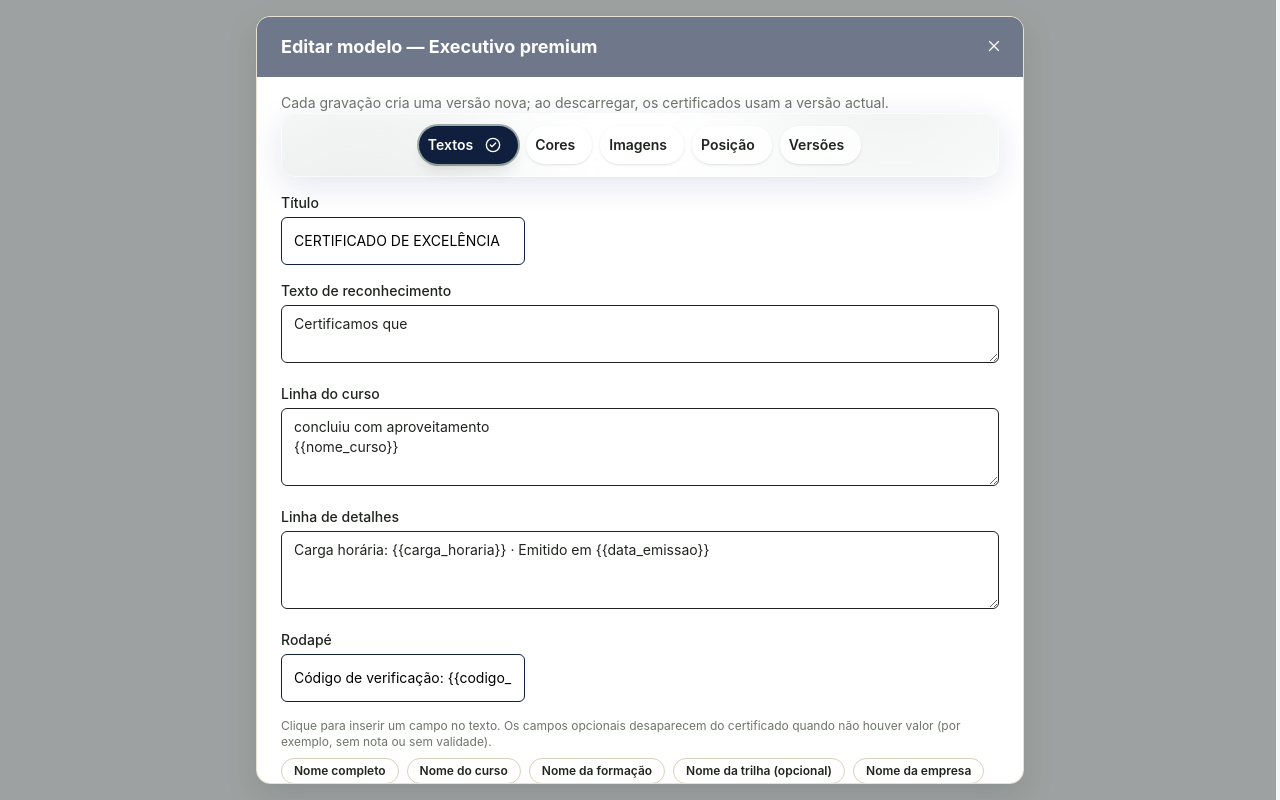
Scenario: TemplateEditorModal › cor em formato inválido bloqueia a gravação
Click the tab "Cores". click: (559, 145)
box: top-left (526, 126), bottom-right (592, 164)
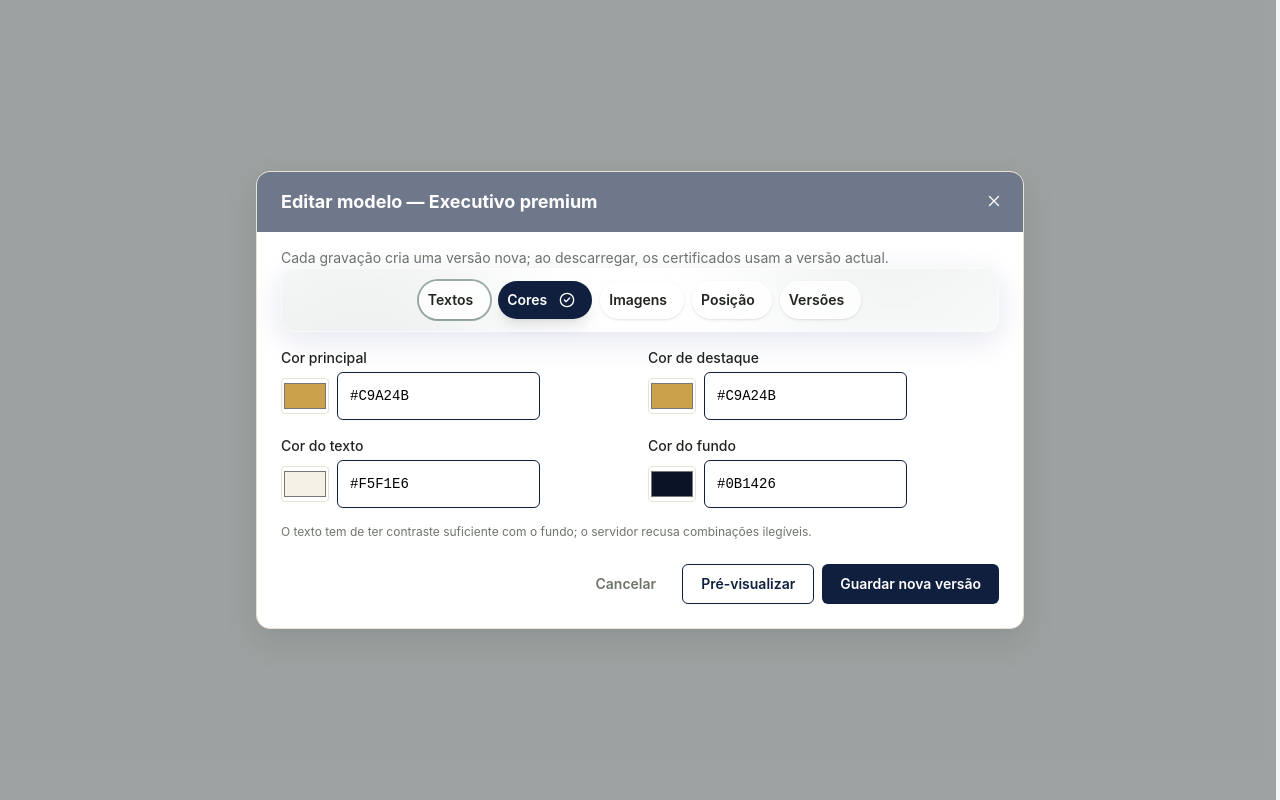
Replace the text in the field named "Cor principal (hexadecimal)" with "red". click: (438, 396)
box: top-left (337, 372), bottom-right (540, 420)
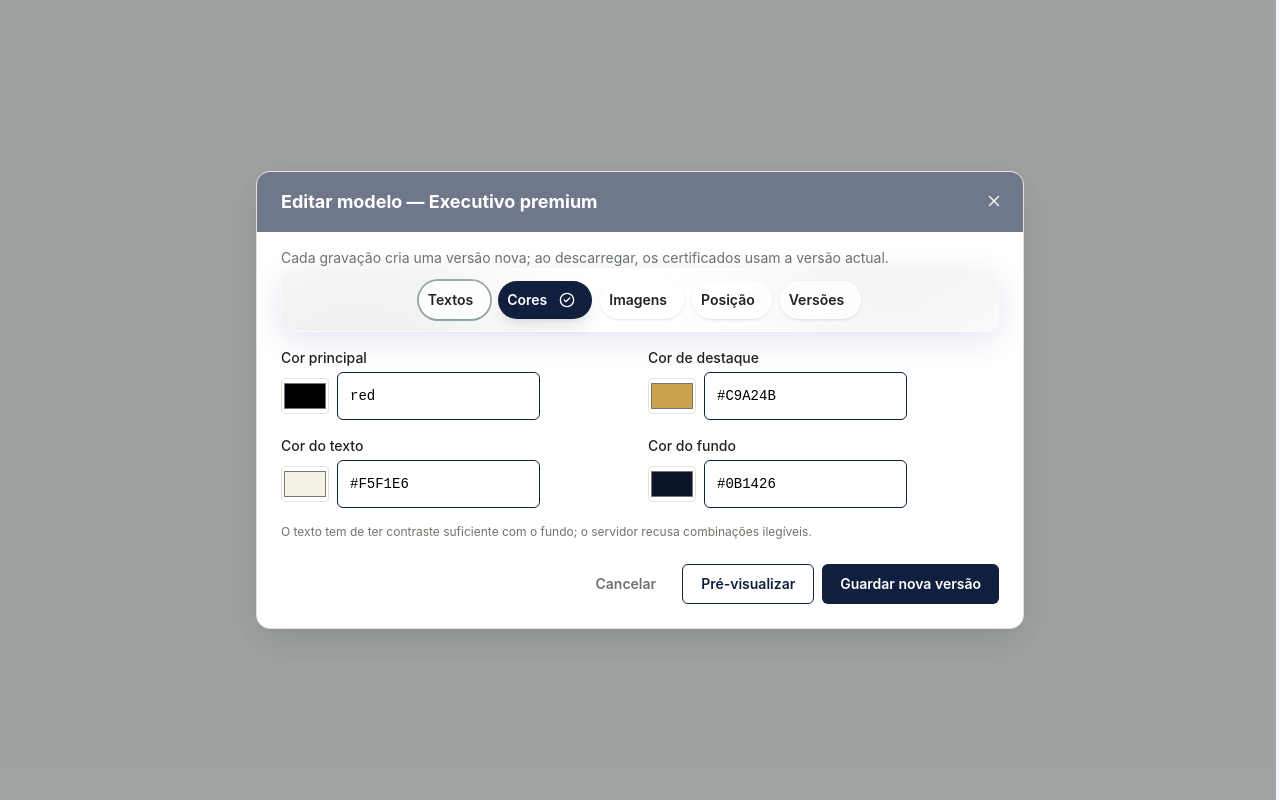
Click the button "Guardar nova versão". click: (911, 584)
box: top-left (822, 564), bottom-right (999, 604)
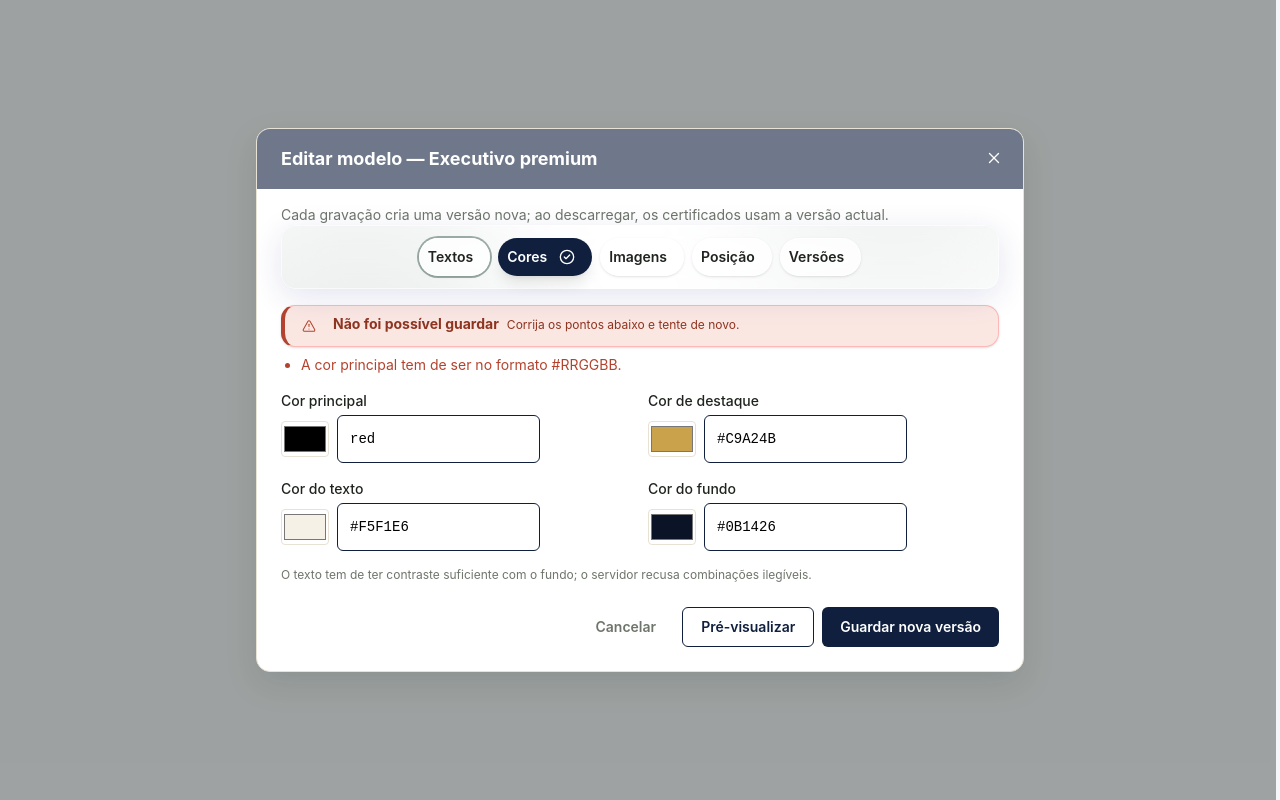
Now the list item "A cor principal tem de ser no formato #RRGGBB." is shown, box top-left (301, 356), bottom-right (622, 373)
